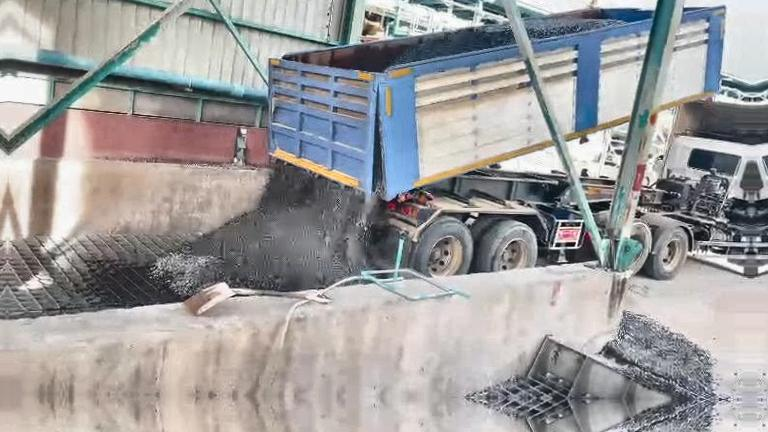gravel: (153, 165, 368, 296), (601, 313, 719, 399), (387, 24, 515, 67), (526, 19, 624, 40)
